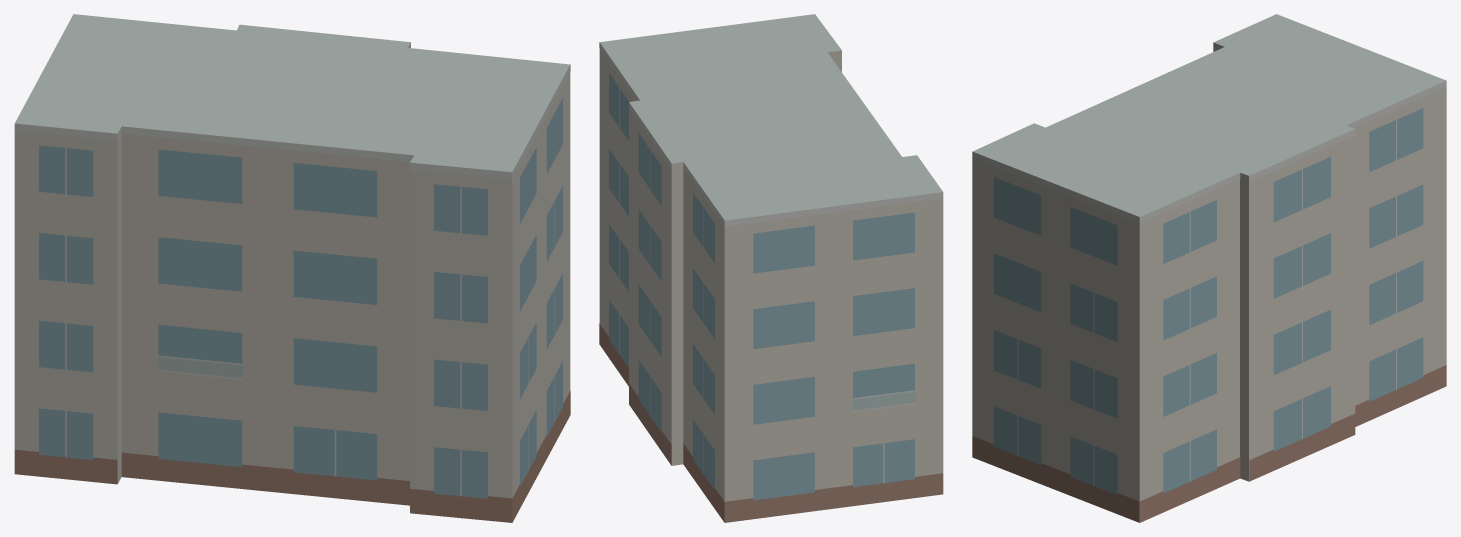
Rendered from survey-upis-32512827.glb.
The picture shows the model from 3 angles, left to right: view 1: azimuth 30°, elevation 25°; view 2: azimuth 150°, elevation 25°; view 3: azimuth 270°, elevation 25°; orthographic projection. The views are drawn at different scales.
Visible parts, largest first — view 1: survey-upis-32512827.tmp; view 2: survey-upis-32512827.tmp; view 3: survey-upis-32512827.tmp.
Part boxes in pixels (left/top/right/bottom): survey-upis-32512827.tmp: left=14, top=14, right=570, bottom=522; survey-upis-32512827.tmp: left=599, top=14, right=943, bottom=522; survey-upis-32512827.tmp: left=972, top=14, right=1446, bottom=522.
Bounding box in the file's own units: 16.89 × 11.85 × 16.66.
